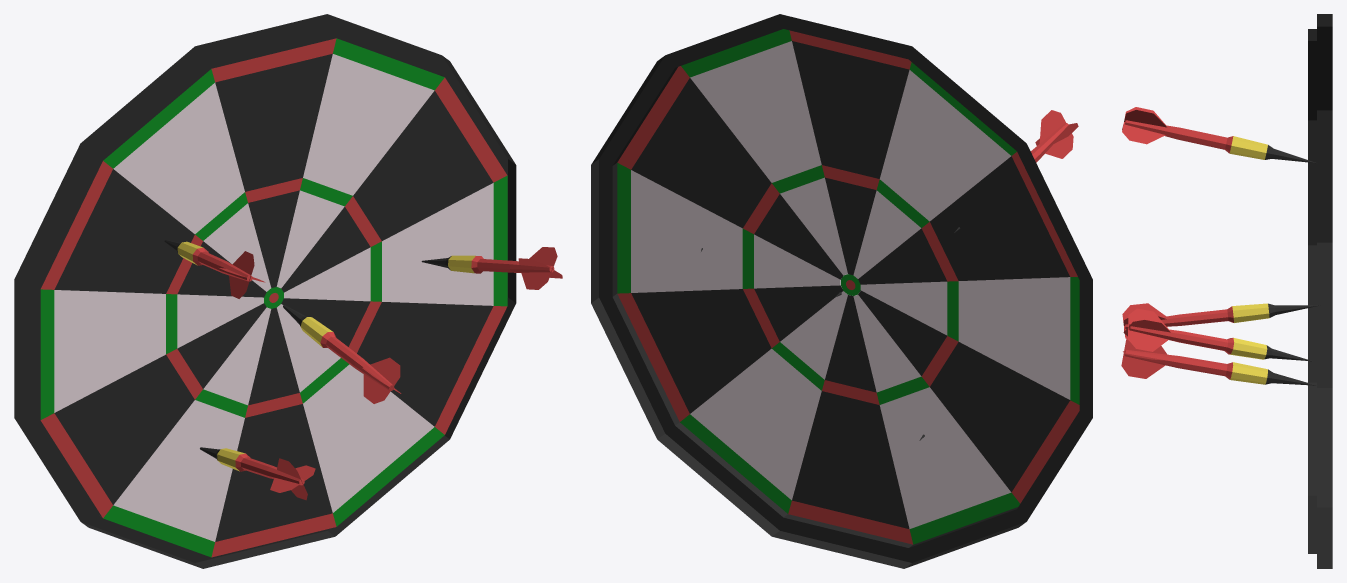
File: dartboard.fbx
The picture shows the model from 3 angles, left to right: view 1: azimuth 30°, elevation 25°; view 2: azimuth 150°, elevation 25°; view 3: azimuth 270°, elevation 25°; orthographic projection. The views are drawn at different scales.
Parts seen in each view (by area): view 1: dartboard, dart, dart.002, dart.003, dart.001; view 2: dartboard, dart.001; view 3: dartboard, dart.001, dart.002, dart.003, dart.
Boxes of the visible parts, box(x1,y1,x2,y2) form: dartboard: box(14, 14, 516, 568); dart: box(283, 305, 401, 403); dart.002: box(421, 247, 562, 289); dart.003: box(200, 447, 315, 500); dart.001: box(164, 240, 265, 298); dartboard: box(591, 14, 1092, 568); dart.001: box(954, 110, 1078, 232); dartboard: box(1308, 14, 1332, 568); dart.001: box(1122, 107, 1316, 163); dart.002: box(1123, 308, 1312, 361); dart.003: box(1121, 339, 1316, 385); dart: box(1122, 303, 1320, 340).
Size of the model in its own units: 193 by 193 by 74.95.
